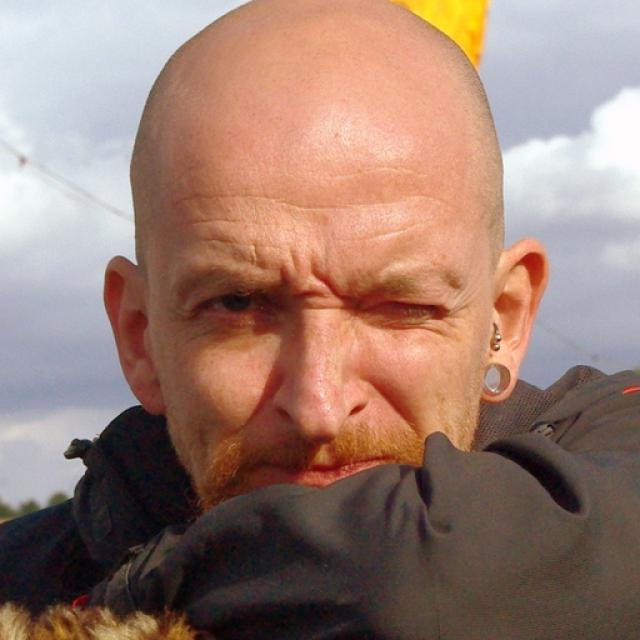Wrinkle: (175, 187, 459, 213), (347, 222, 417, 244), (209, 233, 281, 254), (178, 209, 250, 230)
